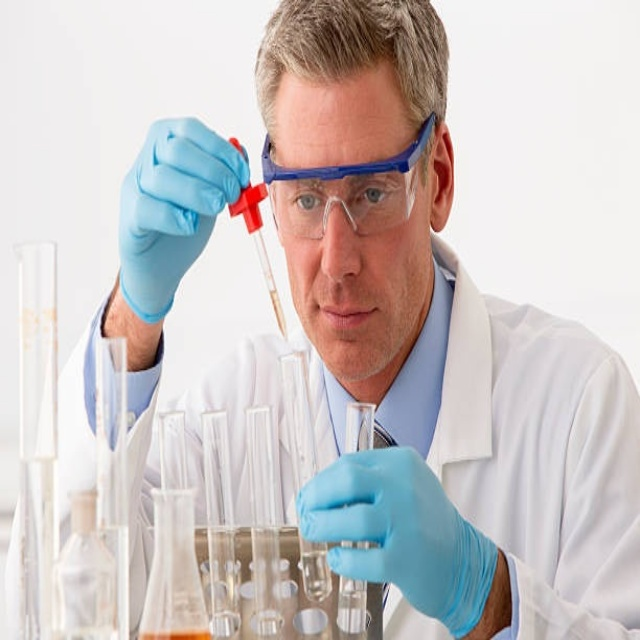Gafas: (264, 118, 431, 240)
Guantes: (297, 444, 496, 636), (117, 114, 250, 324)
Sin_mascara: (308, 285, 385, 359)
